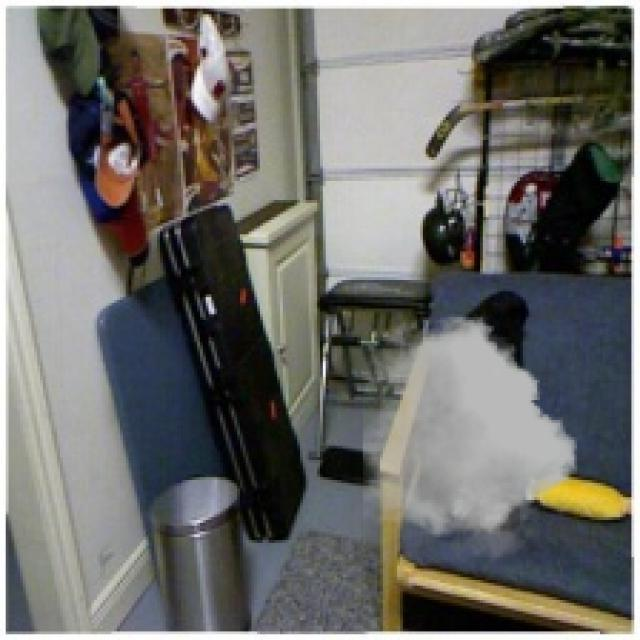Smoke: (362, 311, 578, 566)
